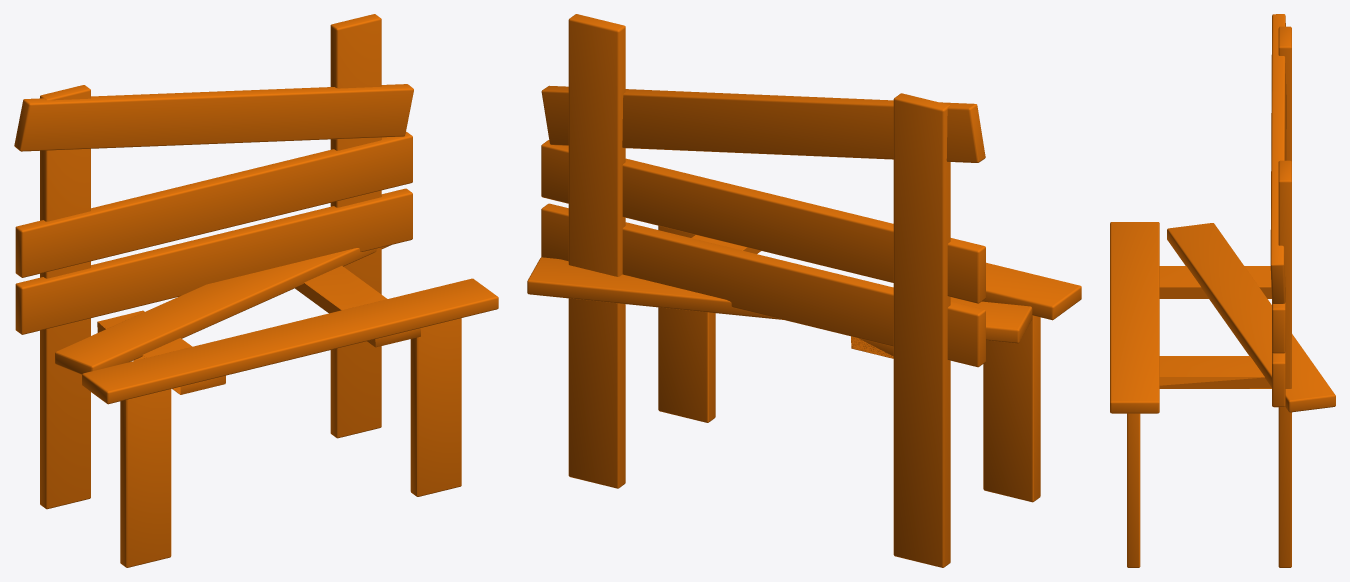
The model's file is Broken bench_Cvl_26-09.fbx.
3 views of the same model, side by side, from view 1: azimuth 30°, elevation 25°; view 2: azimuth 150°, elevation 25°; view 3: azimuth 270°, elevation 25° (orthographic). The views are drawn at different scales.
Visible parts, largest first — view 1: Broken bench; view 2: Broken bench; view 3: Broken bench.
Boxes of the visible parts, box(x1,y1,x2,y2) form: Broken bench: box(14, 14, 498, 567); Broken bench: box(527, 14, 1081, 567); Broken bench: box(1110, 14, 1335, 567).
Bounding box in the file's own units: 231 × 232 × 122.
